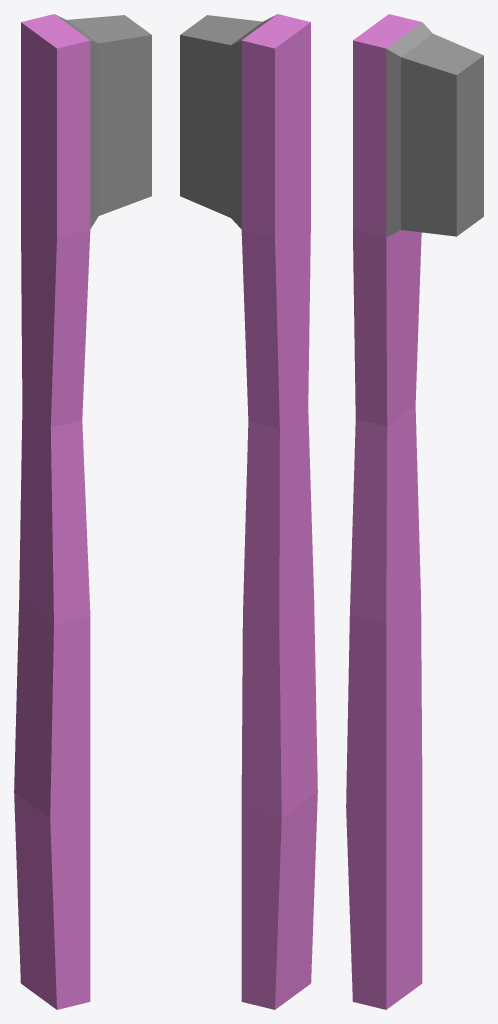
The model's file is cepillo.fbx.
The picture shows the model from 3 angles, left to right: view 1: azimuth 30°, elevation 25°; view 2: azimuth 150°, elevation 25°; view 3: azimuth 330°, elevation 25°; orthographic projection.
Visible parts, largest first — view 1: cepillo; view 2: cepillo; view 3: cepillo.
Boxes of the visible parts, bbox=[...] form: cepillo: bbox=[14, 14, 151, 1009]; cepillo: bbox=[180, 14, 317, 1009]; cepillo: bbox=[346, 14, 483, 1009].
Bounding box in the file's own units: 5.78 × 50.02 × 3.41.
